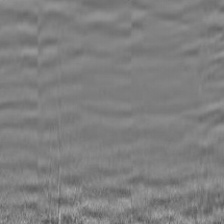cavities: (36, 87, 207, 158)
